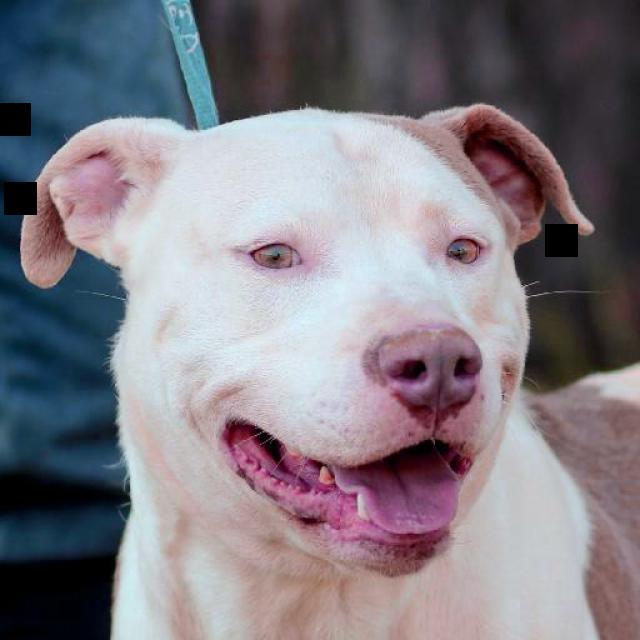adult_dog: (17, 101, 640, 640)
